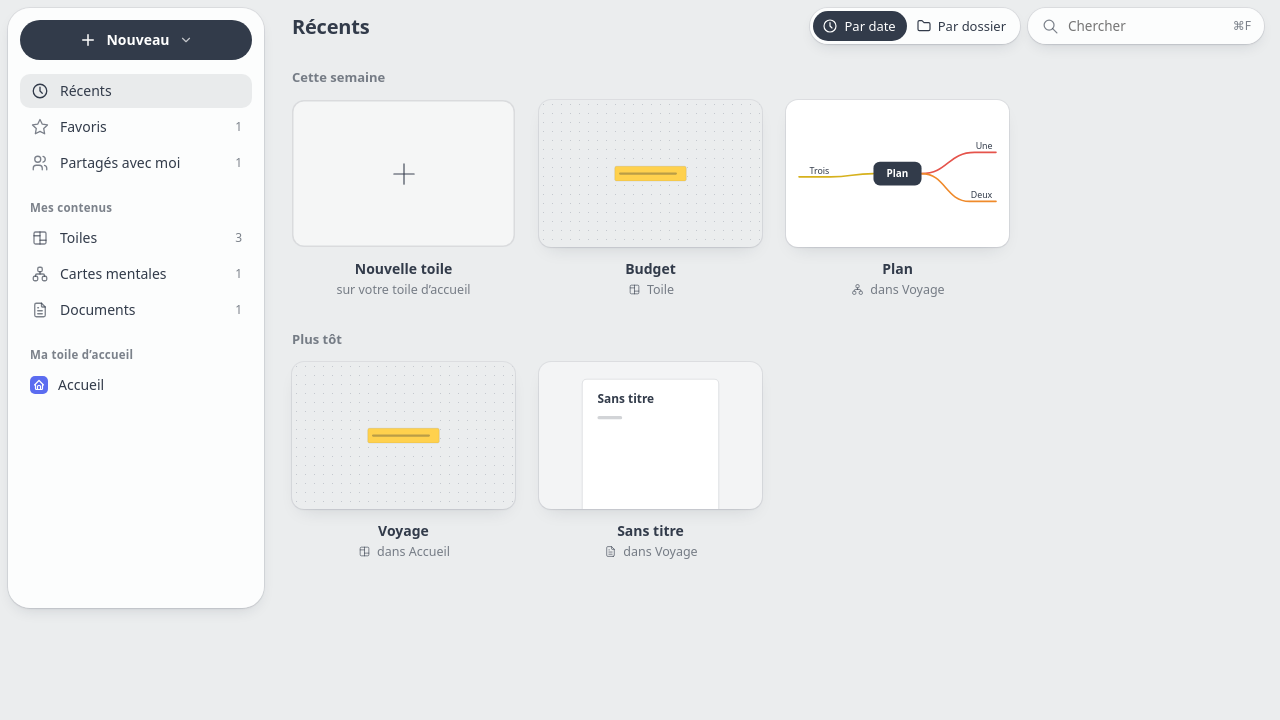
it: la page › le bouton Nouveau propose une toile, une carte ou un document
Click the button with class "biblio-nouveau-bouton": (136, 40) [20,20,252,60]
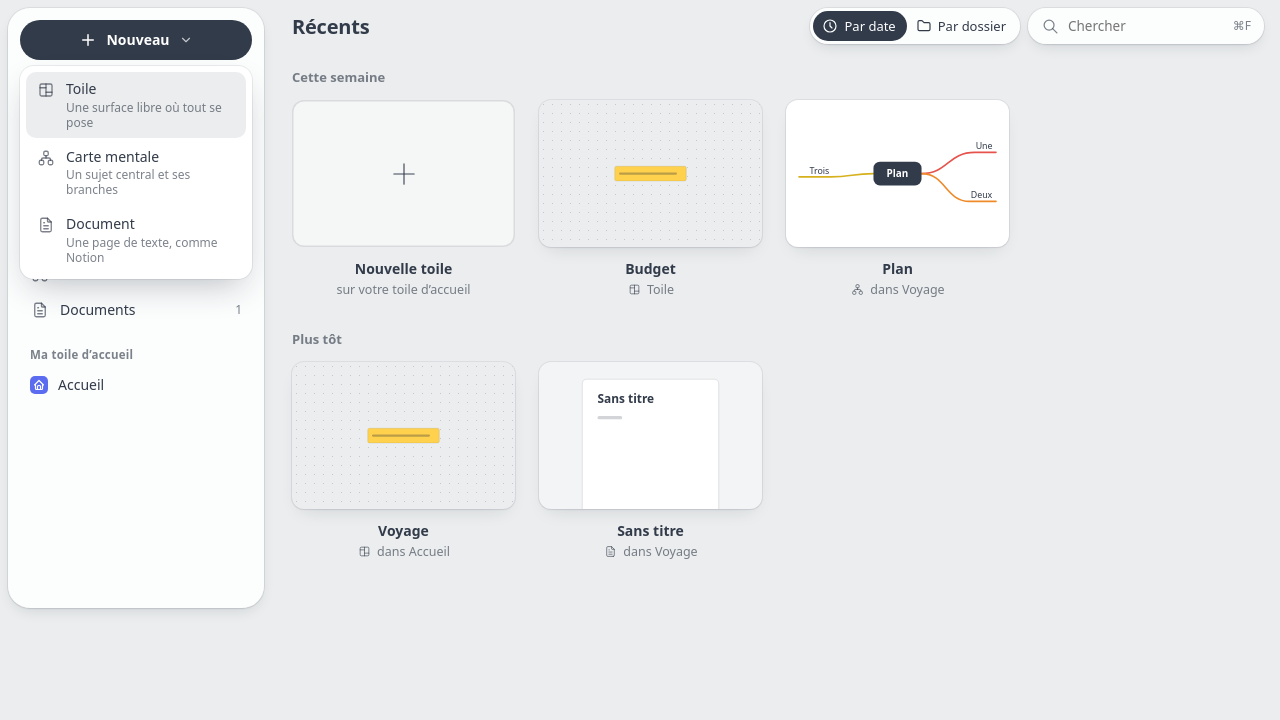
Click the menu item "Document Une page de texte, comme Notion": (136, 240) [26,207,246,272]
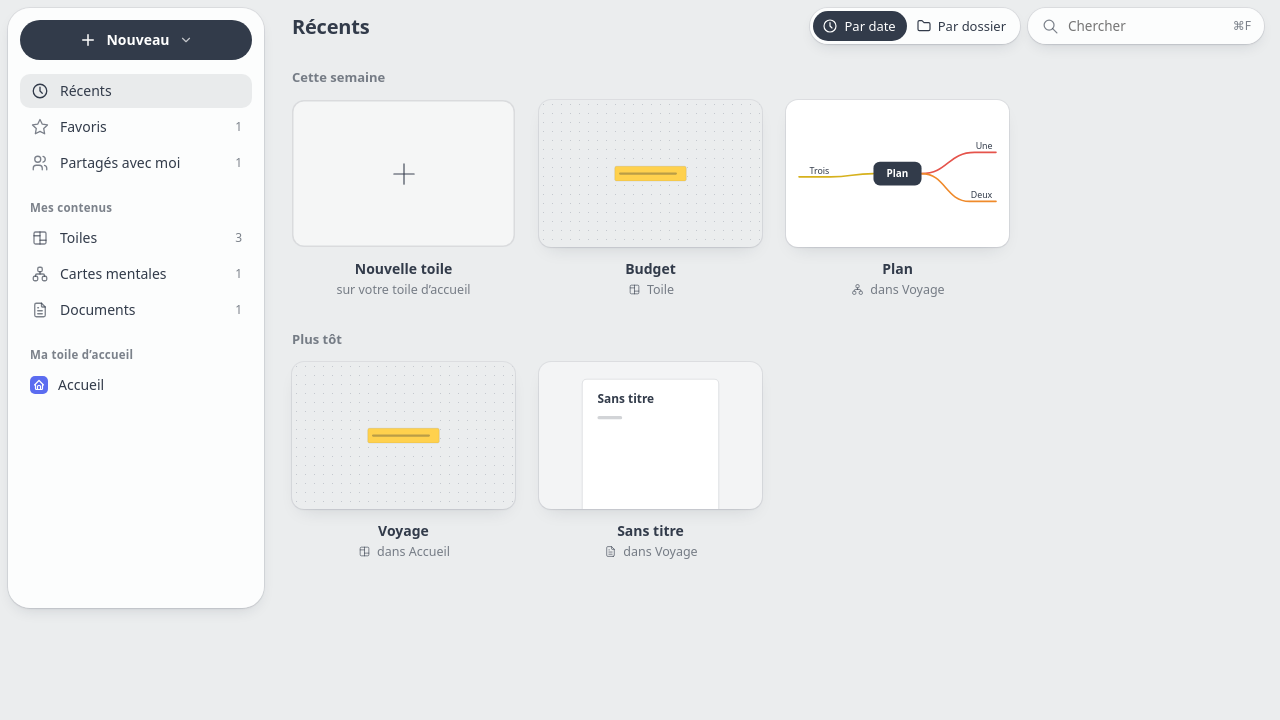
Check: the menu with class "biblio-menu" is gone
